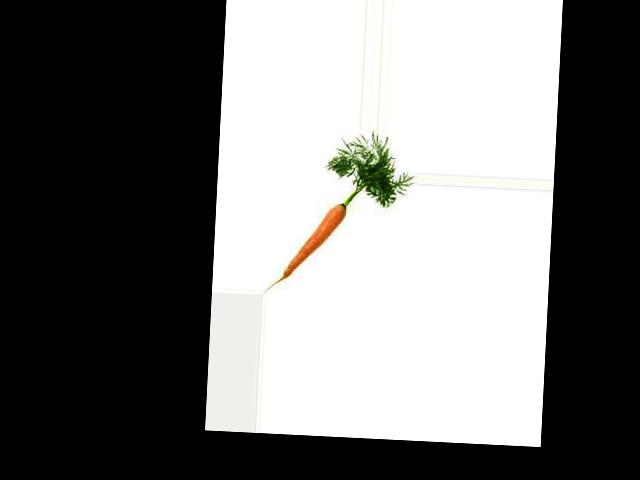carrot: (275, 201, 349, 288)
